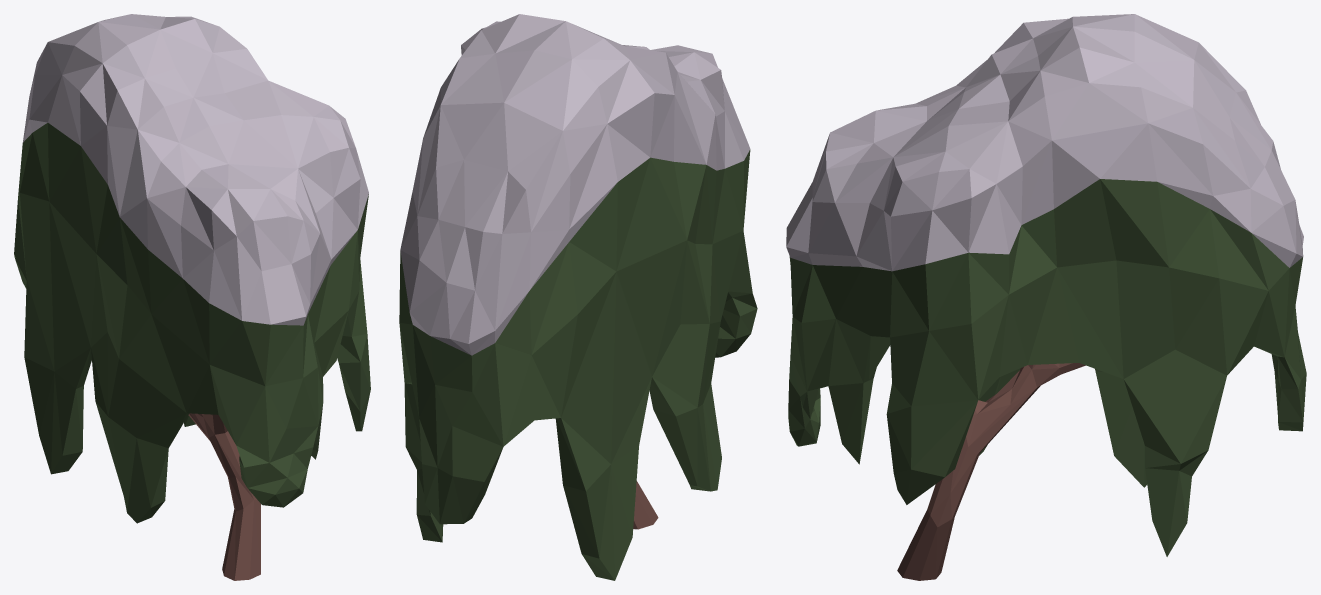
Rendered from Willow_Snow_1.lod1.glb.
3 renders of one model, left to right at view 1: azimuth 30°, elevation 25°; view 2: azimuth 150°, elevation 25°; view 3: azimuth 270°, elevation 25°, orthographic. The views are drawn at different scales.
Parts seen in each view (by area): view 1: Willow_Snow_1; view 2: Willow_Snow_1; view 3: Willow_Snow_1.
Part boxes in pixels (left/top/right/bottom): Willow_Snow_1: left=14, top=14, right=370, bottom=580; Willow_Snow_1: left=399, top=14, right=757, bottom=580; Willow_Snow_1: left=786, top=14, right=1306, bottom=580.
Bounding box in the file's own units: 1.45 × 2.93 × 2.57.
